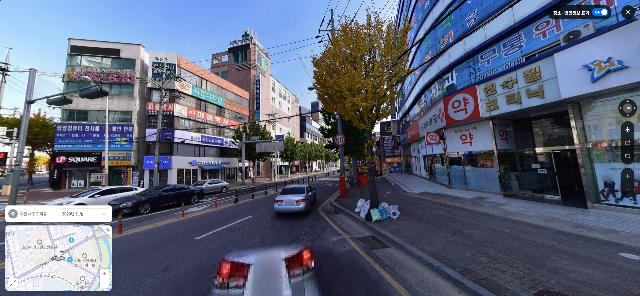ginkgo: (310, 0, 416, 210)
other: (317, 105, 370, 185), (1, 111, 57, 186), (235, 118, 269, 183), (26, 137, 47, 187), (274, 139, 296, 179), (293, 142, 305, 175), (302, 141, 312, 174), (317, 143, 326, 172), (310, 142, 318, 173), (326, 147, 333, 171), (331, 149, 339, 170)
